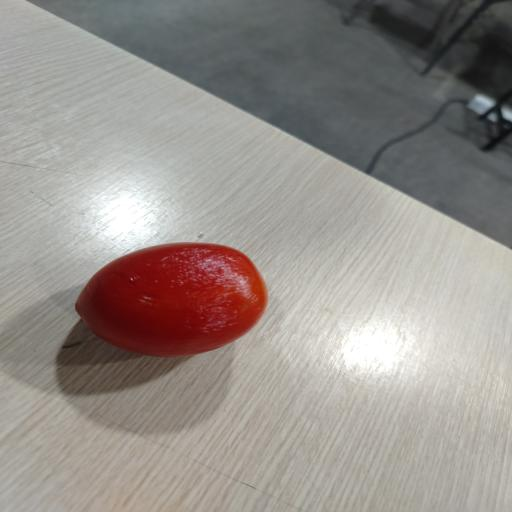spoiled: (75, 243, 267, 357)
